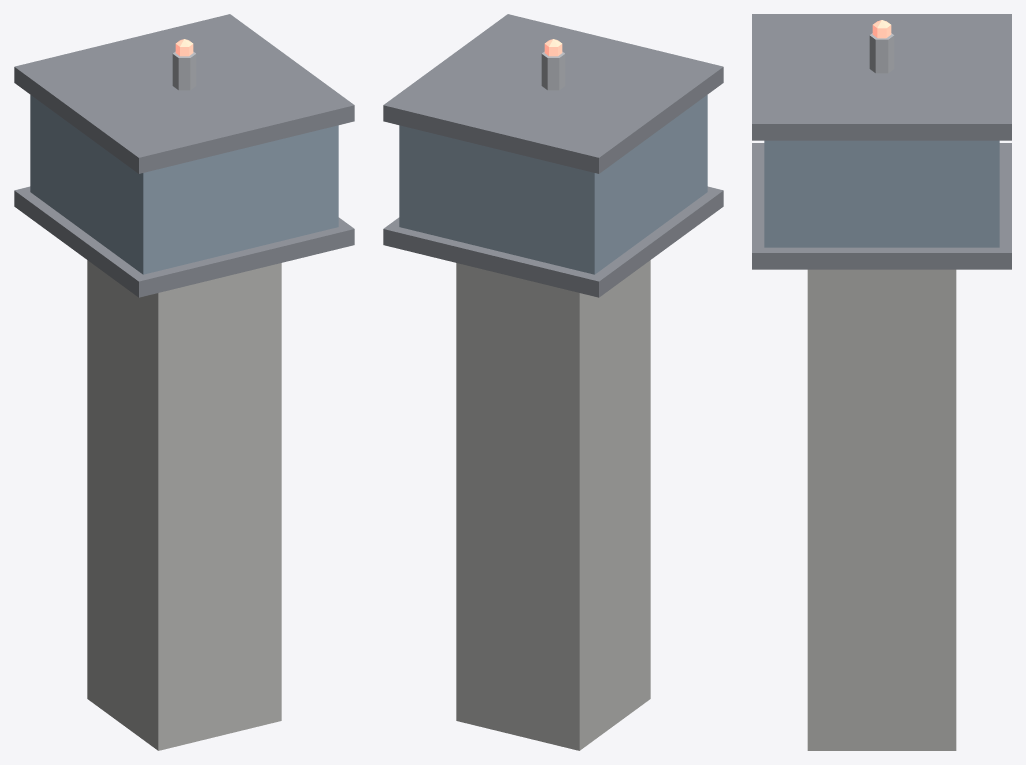
The model's file is control_tower.glb.
The picture shows the model from 3 angles, left to right: view 1: azimuth 30°, elevation 25°; view 2: azimuth 150°, elevation 25°; view 3: azimuth 270°, elevation 25°; orthographic projection. The views are drawn at different scales.
Parts seen in each view (by area): view 1: control_tower; view 2: control_tower; view 3: control_tower.
Boxes of the visible parts, x1,y1,x2,y2 form: control_tower: (14, 14, 354, 750); control_tower: (383, 14, 723, 750); control_tower: (752, 14, 1011, 750).
Size of the model in its own units: 4.2 by 12.47 by 4.2.
